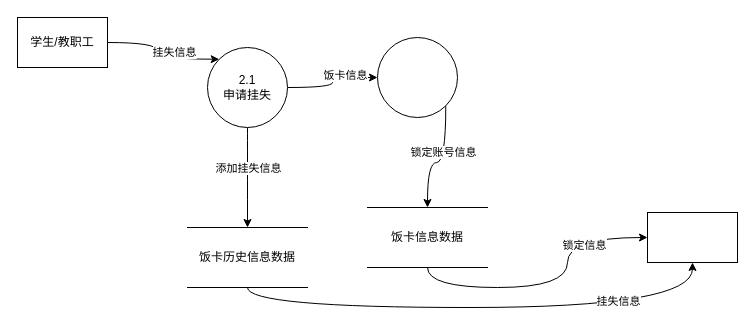
Image size: 755x325. Some labels were removed from this diagram. Each missing label, with the box of its shape:
2.2 锁定账户: (376, 36, 458, 118)
管理员: (646, 212, 738, 262)
